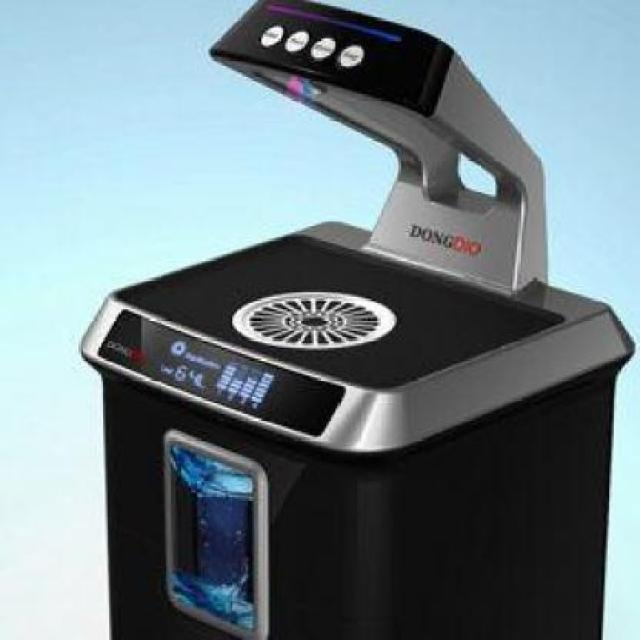cooler: (80, 0, 635, 640)
